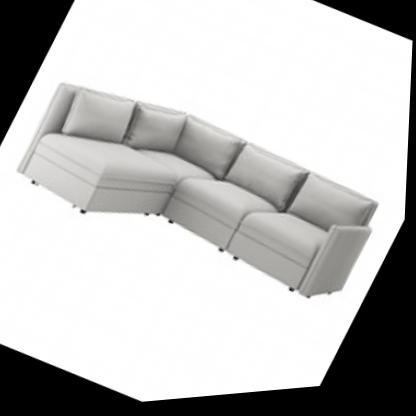Sofa: (0, 35, 401, 348)
